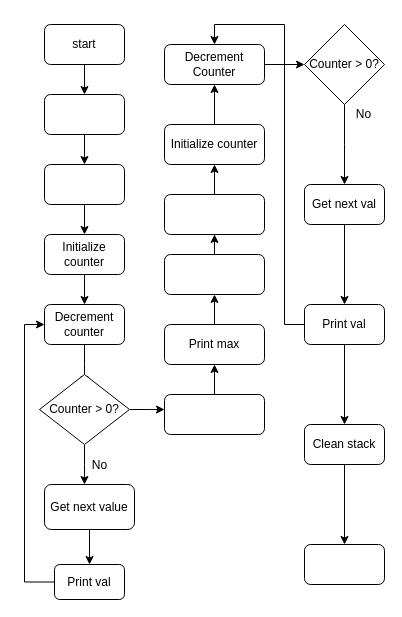
The diagram is 402 pixels wide and 617 high, and some of its shapes have lost their labels. The shapes that lost their labels are listed below. From the top down, each one's centre as x and y in pixels, then its label:
At point (84, 114): "Copy register content onto stack".
At point (84, 184): "Print # of entries".
At point (214, 214): "Print # of divisible #s".
At point (214, 274): "Print Mean".
At point (214, 414): "Print min".
At point (344, 564): "return".
